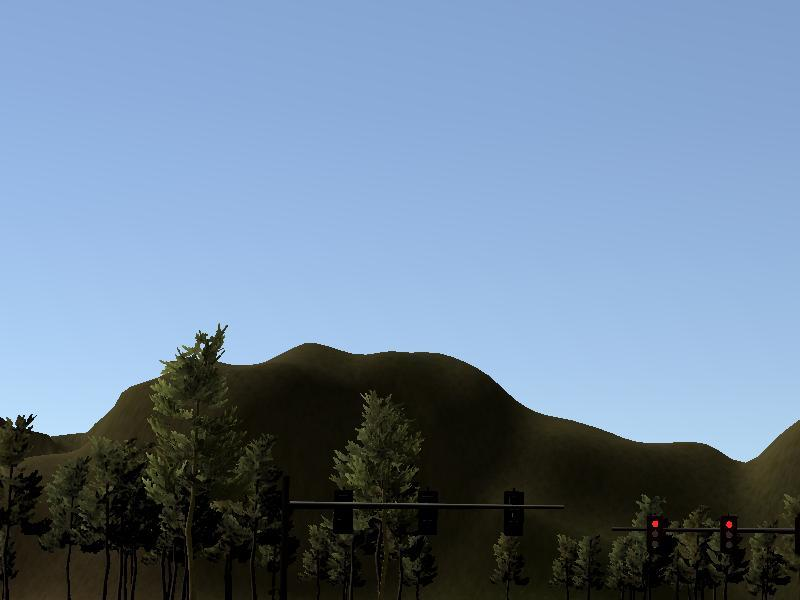Red: (646, 516, 662, 553), (720, 517, 736, 554)
